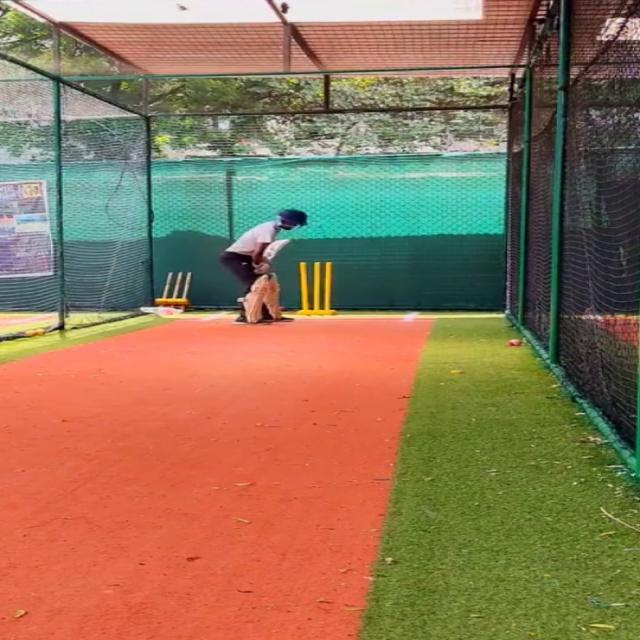ball: (507, 336, 526, 346)
stump: (295, 261, 337, 315)
